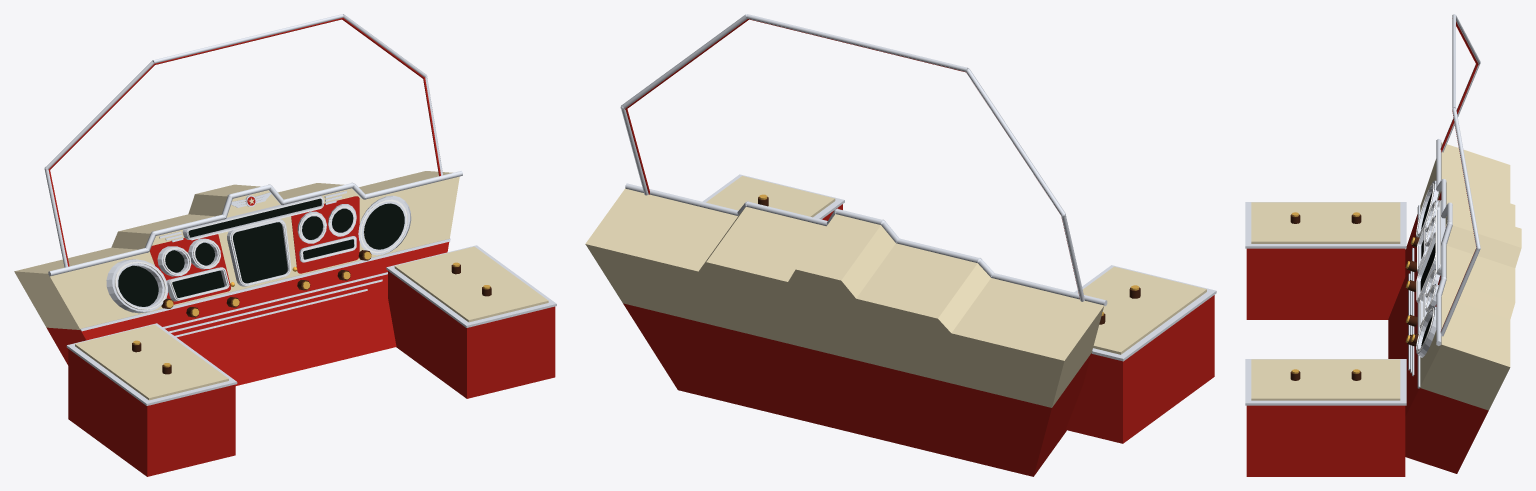
File: guard_cockpit.obj
3 renders of one model, left to right at view 1: azimuth 30°, elevation 25°; view 2: azimuth 150°, elevation 25°; view 3: azimuth 270°, elevation 25°, orthographic. The views are drawn at different scales.
Visible parts, largest first — view 1: console, fascia, dash, console_top, console_trim, trim, rib, mfd_glass, lacquer_r, fascia_line, radar_rear_glass, rib_inner (+10 smaller); view 2: dash, fascia, console, console_top, rib, trim, console_trim, rib_inner; view 3: console, dash, console_top, fascia, console_trim, rib, trim, fascia_line, rib_inner, radar_rear, message, knob (+3 smaller).
Boxes of the visible parts, box(x1,y1,x2,y2) form: console: box(68, 271, 555, 476); fascia: box(46, 242, 449, 385); dash: box(14, 171, 459, 329); console_top: box(75, 246, 548, 400); console_trim: box(66, 245, 556, 405); trim: box(48, 171, 462, 276); rib: box(44, 14, 443, 267); mfd_glass: box(233, 222, 287, 283); lacquer_r: box(291, 196, 359, 273); fascia_line: box(162, 272, 387, 337); radar_rear_glass: box(364, 203, 404, 249); rib_inner: box(48, 17, 440, 266); dash: box(585, 188, 1104, 407); fascia: box(623, 303, 1091, 476); console: box(822, 204, 1214, 443); console_top: box(706, 176, 1206, 354); rib: box(621, 14, 1084, 301); trim: box(625, 183, 1107, 306); console_trim: box(702, 174, 1216, 361); rib_inner: box(625, 19, 1079, 298); console: box(1246, 248, 1405, 476); dash: box(1420, 142, 1521, 410); console_top: box(1251, 202, 1400, 400); fascia: box(1388, 214, 1488, 473); console_trim: box(1245, 202, 1406, 405); rib: box(1440, 14, 1480, 336); trim: box(1436, 139, 1452, 345); fascia_line: box(1408, 248, 1414, 376); rib_inner: box(1440, 21, 1478, 331); radar_rear: box(1416, 306, 1436, 357); message: box(1437, 200, 1445, 275); knob: box(1407, 236, 1419, 346).
Size of the model in its own units: 1.96 by 1.53 by 1.13.
